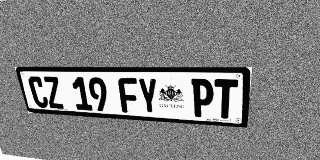1: (70, 77, 93, 111)
9: (87, 77, 110, 112)
C: (27, 76, 50, 108)
F: (117, 78, 140, 113)
P: (191, 79, 214, 118)
T: (214, 79, 238, 119)
Y: (137, 78, 159, 115)
Z: (42, 76, 65, 109)
